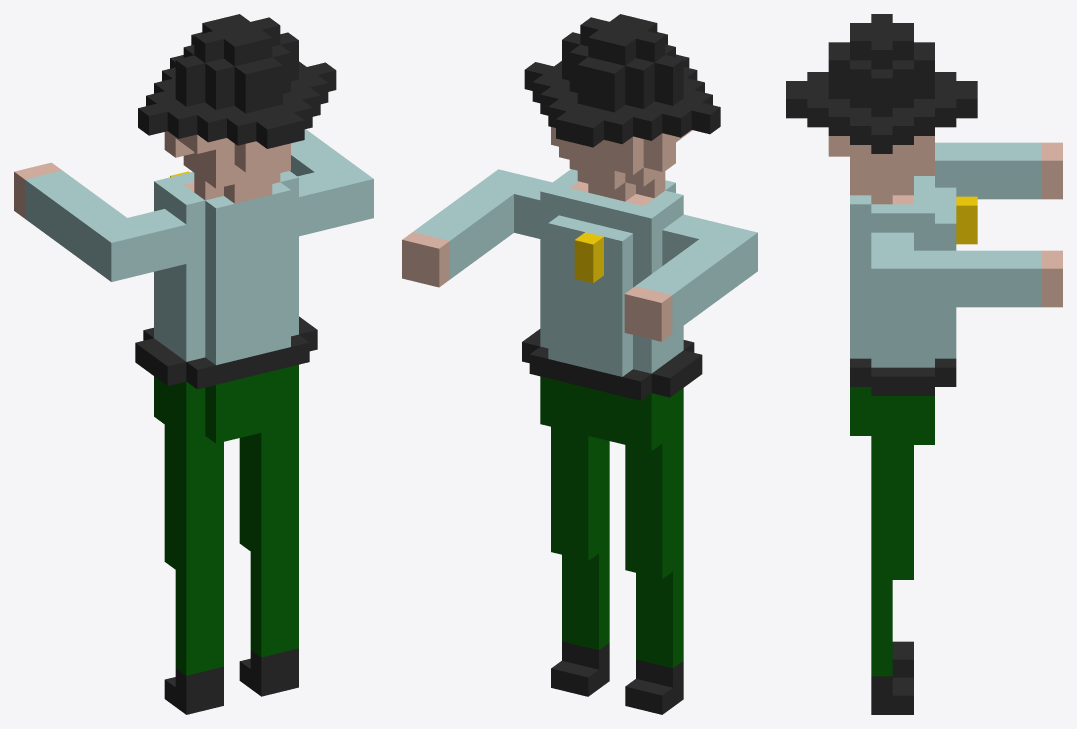
The model's file is ranger.glb.
3 views of the same model, side by side, from view 1: azimuth 30°, elevation 25°; view 2: azimuth 150°, elevation 25°; view 3: azimuth 270°, elevation 25° (orthographic).
Visible parts, largest first — view 1: chest, head, lthigh, glute, rthigh, rleg, lleg, larm, lshoulder, rshoulder, rarm; view 2: chest, head, lthigh, rthigh, larm, rarm, glute, rleg, lleg, lshoulder, rshoulder; view 3: head, chest, rarm, larm, rthigh, glute, rleg, rshoulder, lleg.
Part boxes in pixels (box(x1,y1,x2,y2)): chest: box(135, 171, 317, 389); head: box(138, 14, 336, 203); lthigh: box(164, 425, 223, 577); glute: box(154, 364, 298, 443); rthigh: box(239, 413, 298, 559); rleg: box(239, 550, 298, 696); lleg: box(164, 568, 223, 714); larm: box(14, 162, 126, 265); lshoulder: box(90, 209, 186, 281); rshoulder: box(297, 163, 373, 236); rarm: box(290, 129, 351, 176); chest: box(522, 169, 702, 400); head: box(524, 14, 720, 201); lthigh: box(625, 428, 683, 578); rthigh: box(551, 427, 609, 560); larm: box(624, 239, 736, 341); rarm: box(402, 185, 513, 287); glute: box(540, 376, 683, 451); rleg: box(551, 545, 609, 696); lleg: box(625, 564, 683, 714); lshoulder: box(662, 214, 757, 286); rshoulder: box(477, 169, 552, 238); head: box(786, 14, 977, 204); chest: box(850, 176, 977, 395); rarm: box(914, 250, 1062, 307); larm: box(935, 142, 1062, 199); rthigh: box(871, 445, 913, 579); glute: box(850, 387, 934, 444); rleg: box(871, 580, 913, 714); rshoulder: box(871, 232, 913, 307); lleg: box(892, 641, 913, 677).
Bounding box in the file's own units: 28 × 68 × 26.
